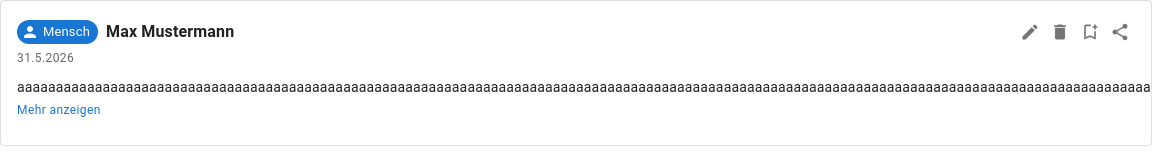
TestimonialCard › shows mehr-anzeigen toggle when text exceeds 200 chars
The width and height of the screenshot is (1164, 163).
Click the text "Mehr anzeigen". click: point(59, 110)
box: [17,103,101,117]
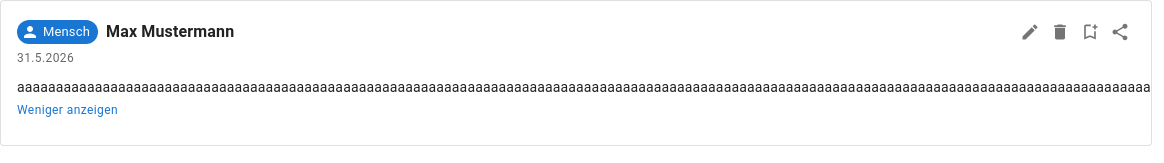
Check: the text "Weniger anzeigen" is shown, box [17,103,118,117]
